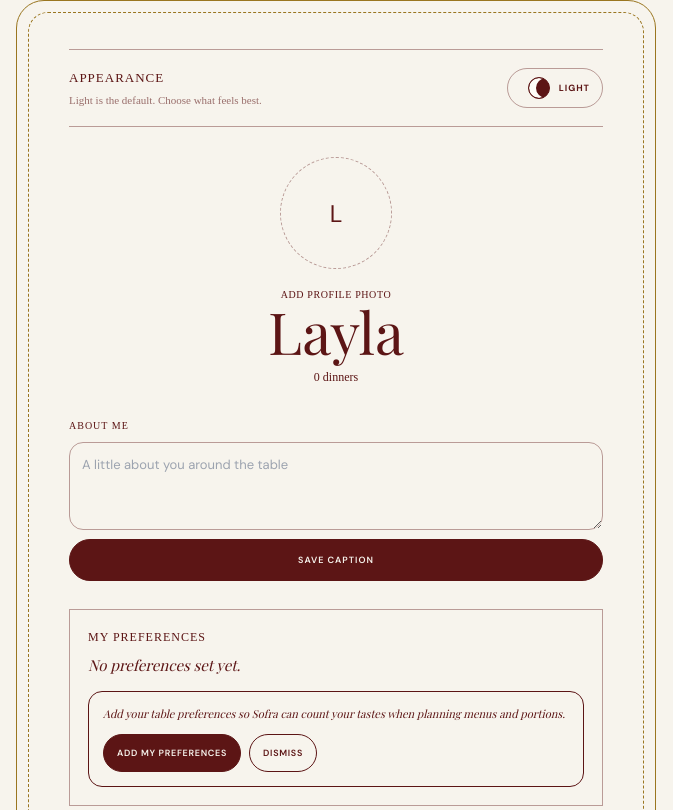
Scenario: prompts a host with no preferences on Profile and allows dismissal
What coordinates should you click on to do the following:
click the button "DISMISS"
I would click on:
 (283, 753)
Its box is [249,734,317,772].
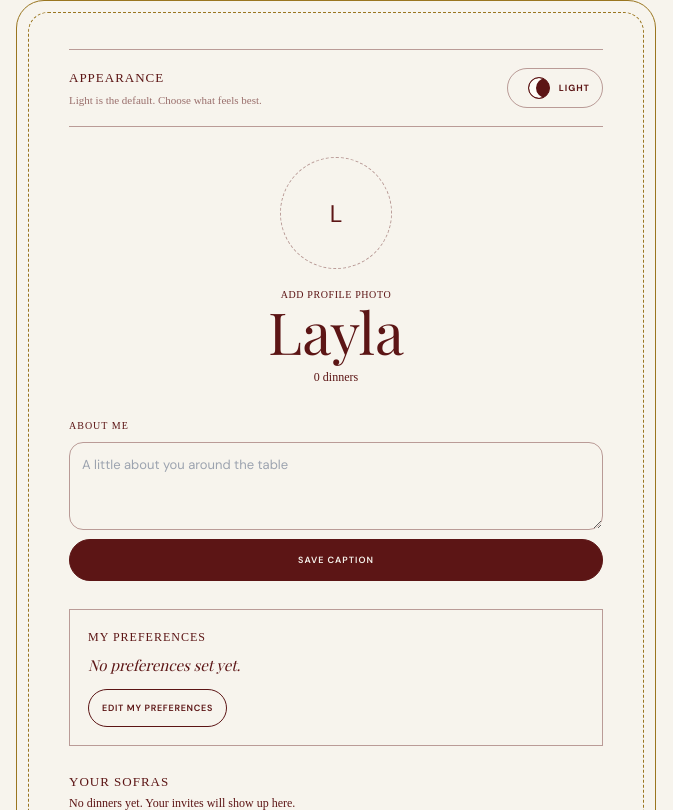
Check: the message is gone
Check: the link "EDIT MY PREFERENCES" is shown, box [88,688,227,726]
